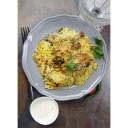briyani: (39, 30, 95, 84)
